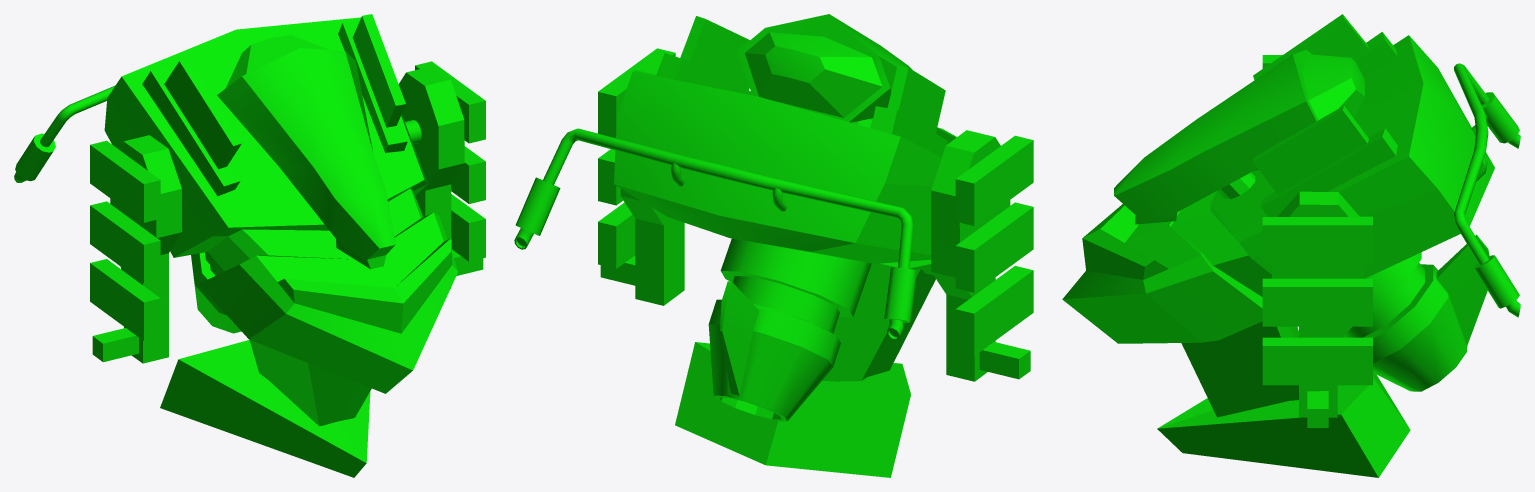
The model's file is robTank_body.fbx.
The picture shows the model from 3 angles, left to right: view 1: azimuth 30°, elevation 25°; view 2: azimuth 150°, elevation 25°; view 3: azimuth 270°, elevation 25°; orthographic projection. The views are drawn at different scales.
Parts seen in each view (by area): view 1: robTank_body; view 2: robTank_body; view 3: robTank_body.
Part boxes in pixels (x1,y1,x2,y2): robTank_body: [14, 14, 485, 477]; robTank_body: [514, 14, 1033, 477]; robTank_body: [1062, 14, 1520, 477].
Size of the model in its own units: 81.53 by 80.02 by 83.45.
